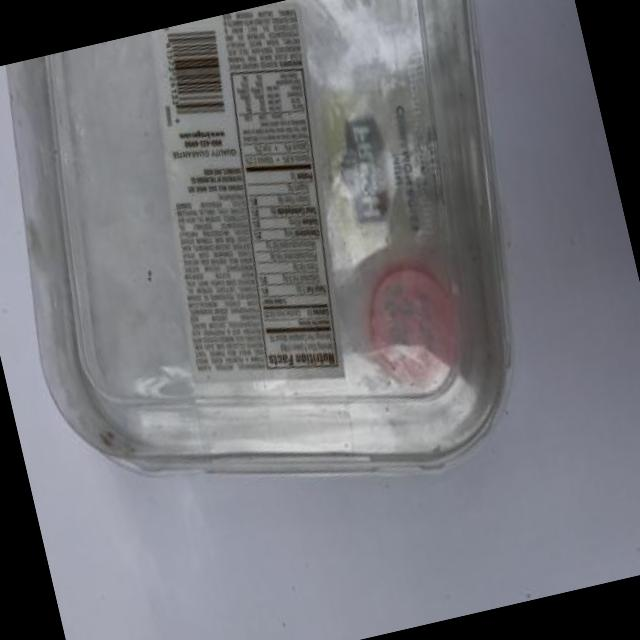Recycle: (0, 0, 579, 548)
